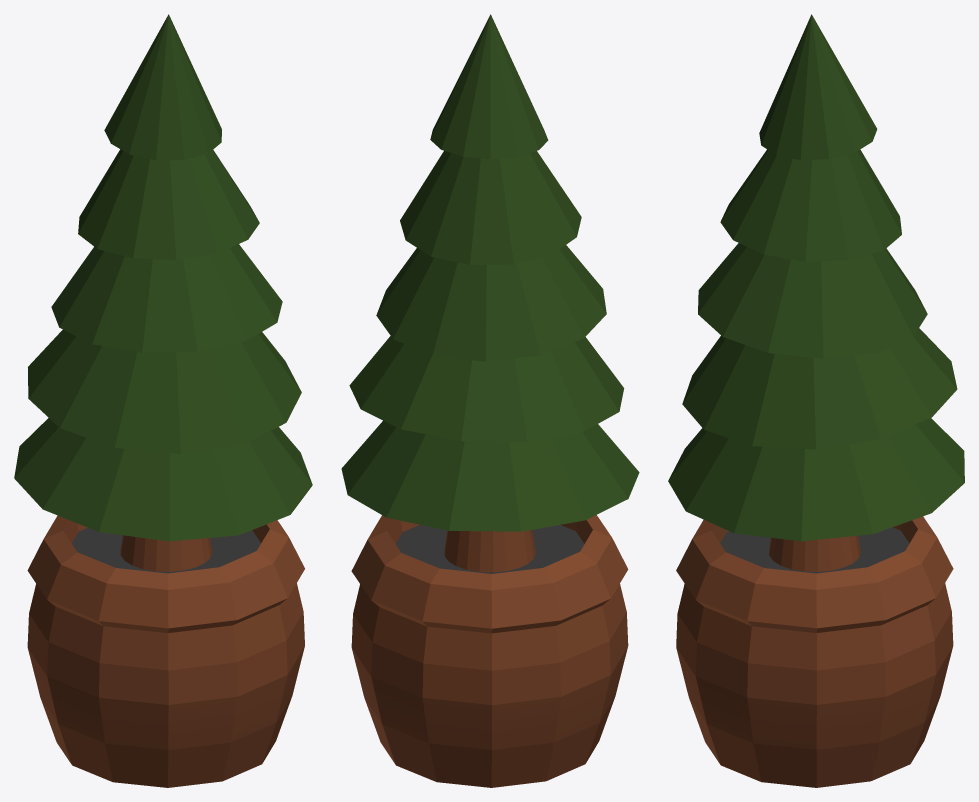
File: Tree_5.glb
The picture shows the model from 3 angles, left to right: view 1: azimuth 30°, elevation 25°; view 2: azimuth 150°, elevation 25°; view 3: azimuth 270°, elevation 25°; orthographic projection.
Parts seen in each view (by area): view 1: Tree 5; view 2: Tree 5; view 3: Tree 5.
Boxes of the visible parts, bbox=[...] form: Tree 5: bbox=[14, 14, 312, 787]; Tree 5: bbox=[341, 14, 639, 787]; Tree 5: bbox=[668, 14, 964, 787].
Bounding box in the file's own units: 1.24 × 3.34 × 1.24.
